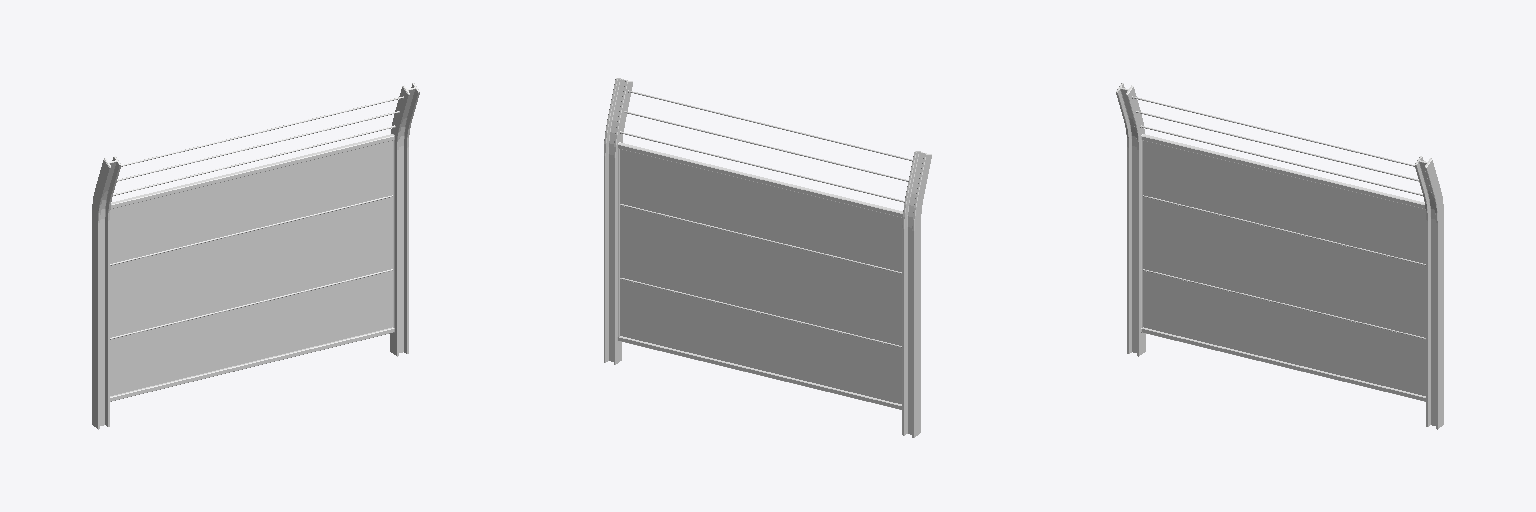
The model's file is fencedoor.obj.
3 views of the same model, side by side, from view 1: azimuth 30°, elevation 25°; view 2: azimuth 150°, elevation 25°; view 3: azimuth 330°, elevation 25° (orthographic).
Visible parts, largest first — view 1: Metal_Fence_3D; view 2: Metal_Fence_3D; view 3: Metal_Fence_3D.
Part boxes in pixels (left/top/right/bottom): Metal_Fence_3D: left=92, top=83, right=419, bottom=429; Metal_Fence_3D: left=604, top=78, right=931, bottom=437; Metal_Fence_3D: left=1116, top=83, right=1443, bottom=429.
Bounding box in the file's own units: 2.44 × 2.06 × 0.2464.